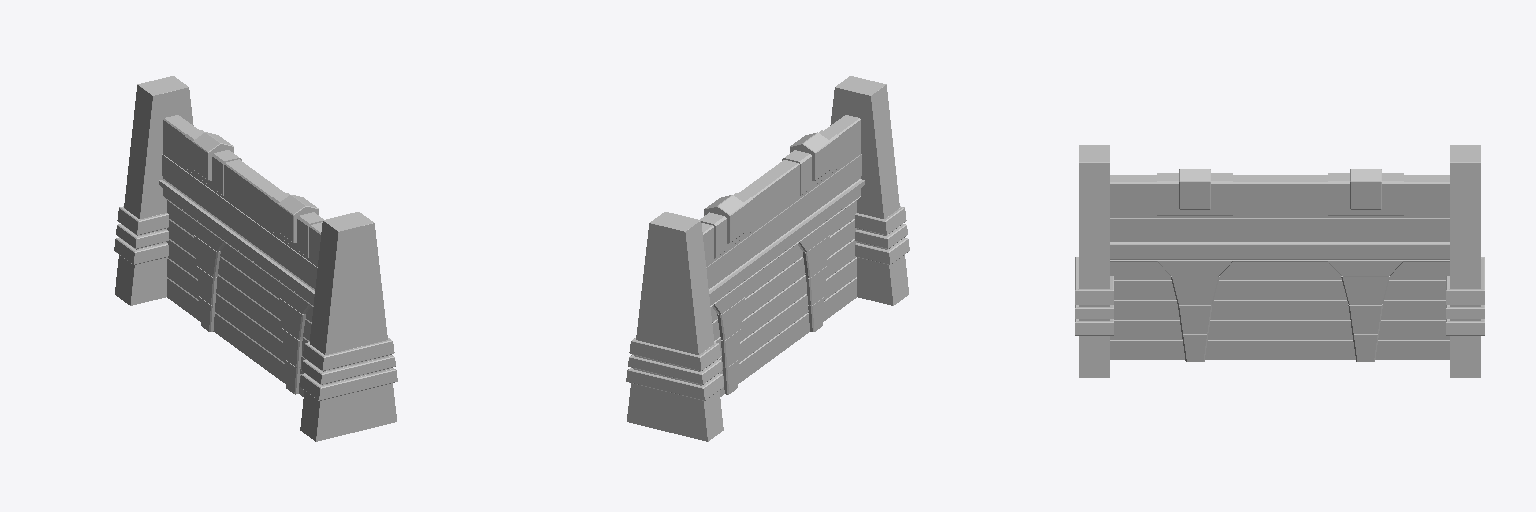
File: CityWall.obj
The picture shows the model from 3 angles: view 1: azimuth 30°, elevation 25°; view 2: azimuth 150°, elevation 25°; view 3: azimuth 270°, elevation 25°; orthographic projection.
Parts seen in each view (by area): view 1: CityWall; view 2: CityWall; view 3: CityWall.
Part boxes in pixels (x1,y1,x2,y2): CityWall: (114,76,397,441); CityWall: (626,76,909,441); CityWall: (1075,145,1484,377).
Size of the model in its own units: 1.49 by 3.57 by 6.5.